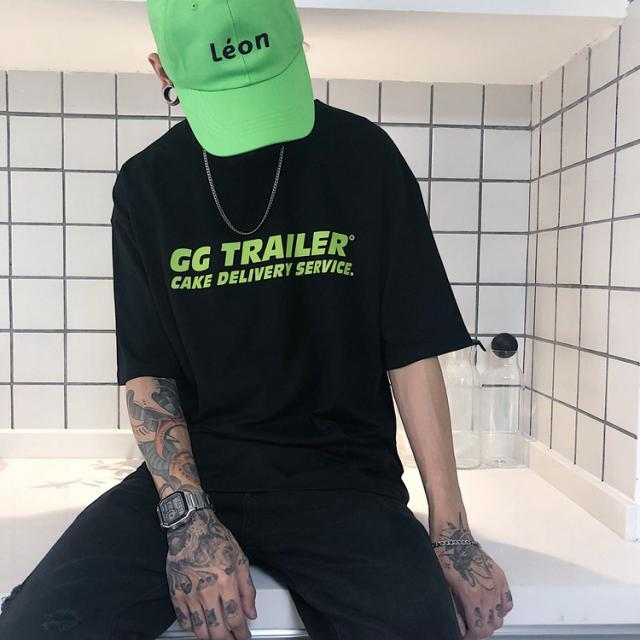Shirt: (106, 93, 482, 520)
